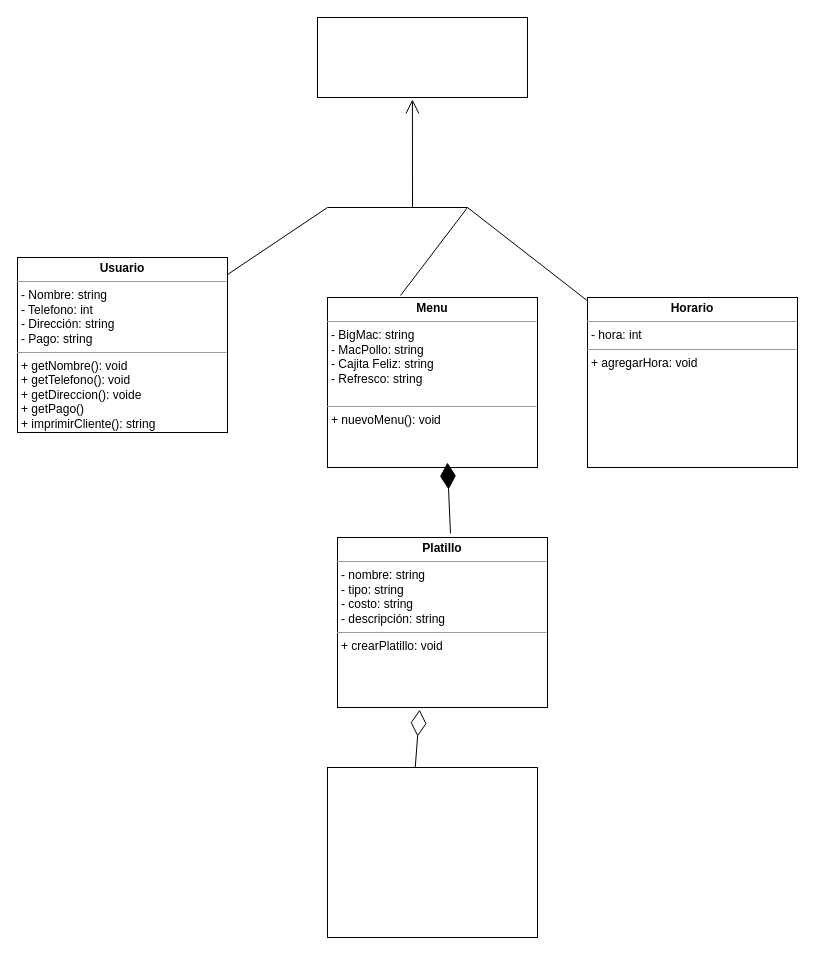
Some shapes in this 815 by 955 pixel diagram are drawn without their labels. The box of each missing label's shape, as (x1, y1, x2, y2) in pixels:
Aplicación - RegistrarUsuario(): void - ImprimirPedido(): void -: (316, 16, 528, 98)
Juguete - groot: string - barbie: string + nuevoJuguete(): void: (326, 766, 538, 938)
